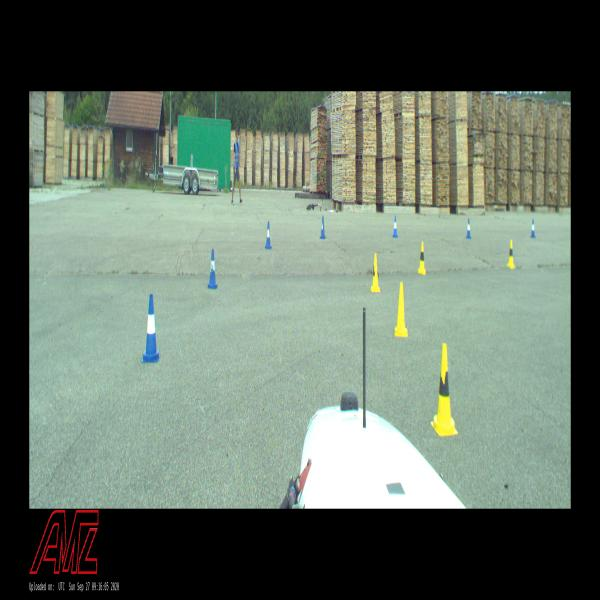blue_cone: (143, 295, 159, 361), (208, 248, 217, 289), (265, 221, 271, 249), (392, 216, 398, 238), (320, 216, 326, 238), (530, 219, 535, 239), (466, 218, 470, 240)
yellow_cone: (431, 344, 458, 435), (394, 282, 408, 338), (371, 254, 380, 293), (418, 241, 426, 274), (507, 240, 514, 267)
